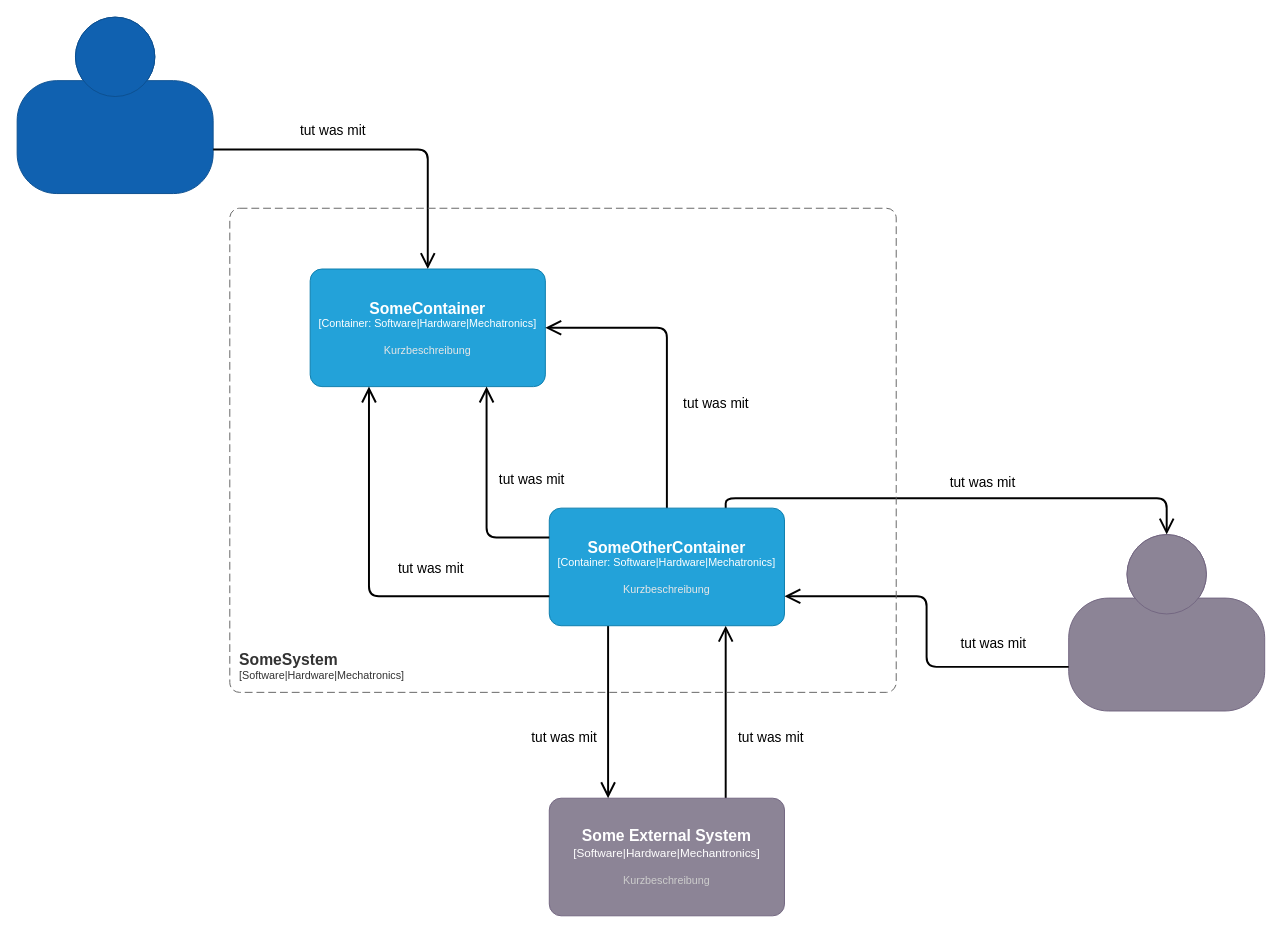
Image size: 1282x933. Some labels were removed from this diagram. The centre of each missing label's shape, as x and y in pixels:
"SomeExternalPerson [Person] Kurzbeschreibung" goes at (1166,622).
"SomePerson [Person] Kurzbeschreibung" goes at (114,105).
